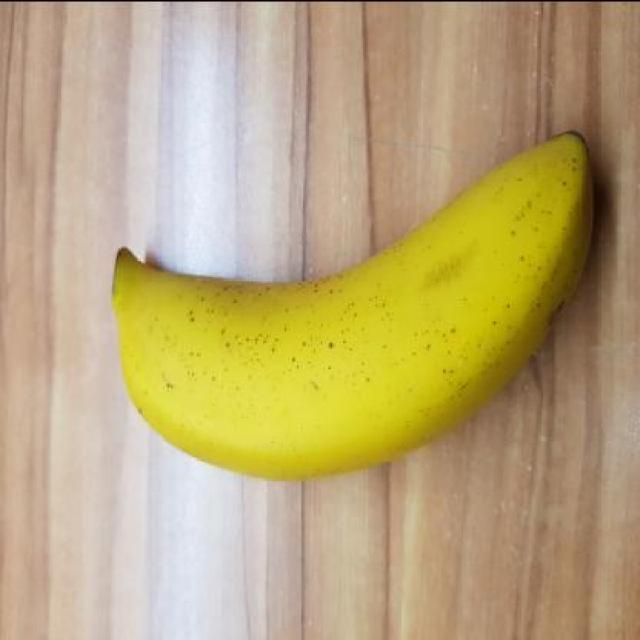Banana: (100, 96, 606, 493)
